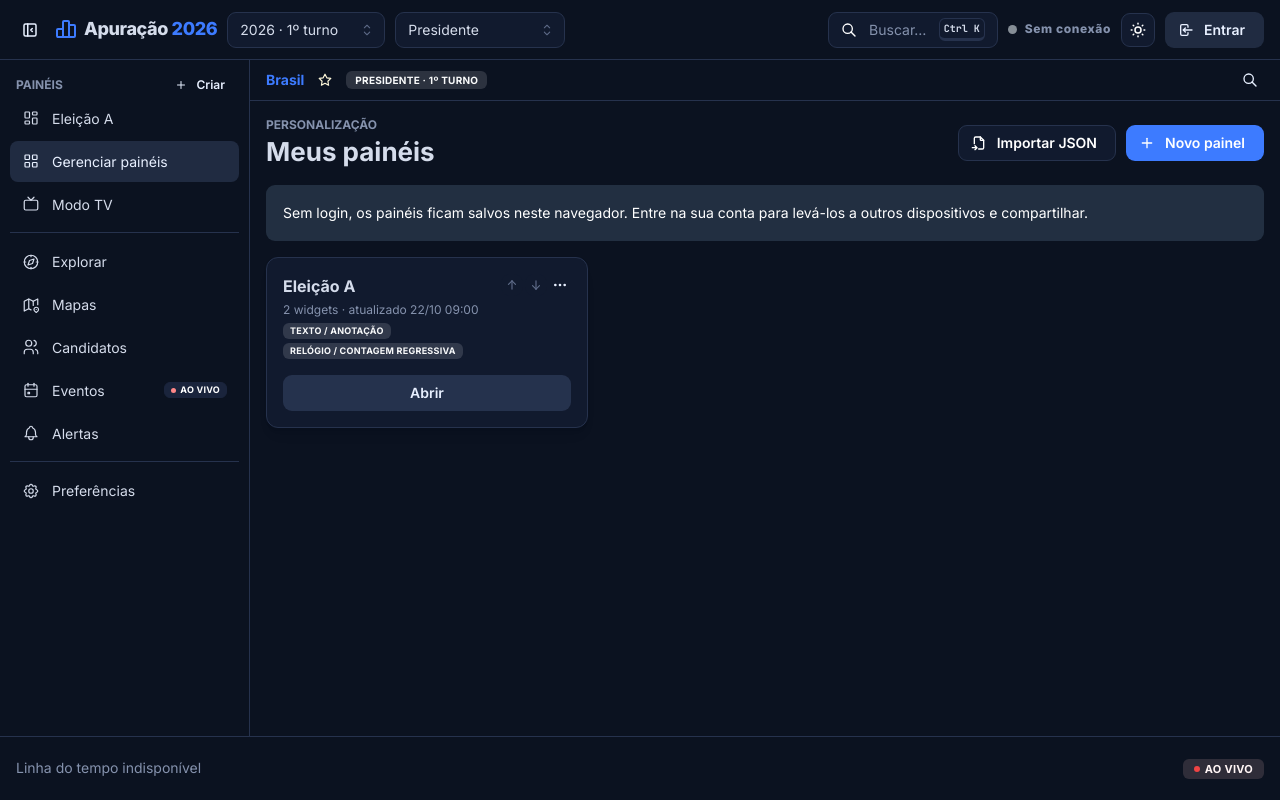
Test: dashboards list › deletes a dashboard after the user confirms
The image size is (1280, 800).
What coordinates should you click on to do the following:
click the button named "Opções"
I would click on:
 (560, 285)
Its box is x1=549 y1=274 x2=571 y2=296.
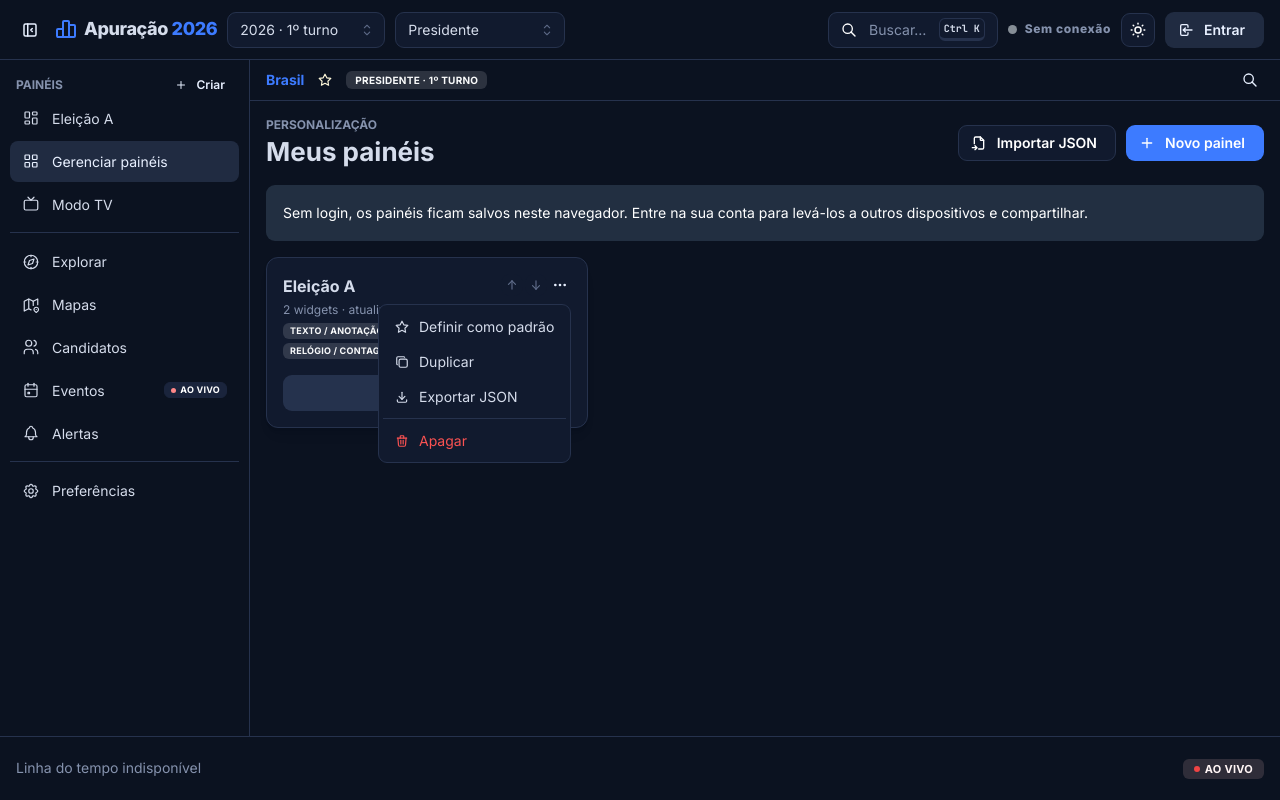
What coordinates should you click on to do the following:
click the menu item "Apagar"
I would click on:
 (474, 440)
Its box is x1=383 y1=423 x2=566 y2=458.
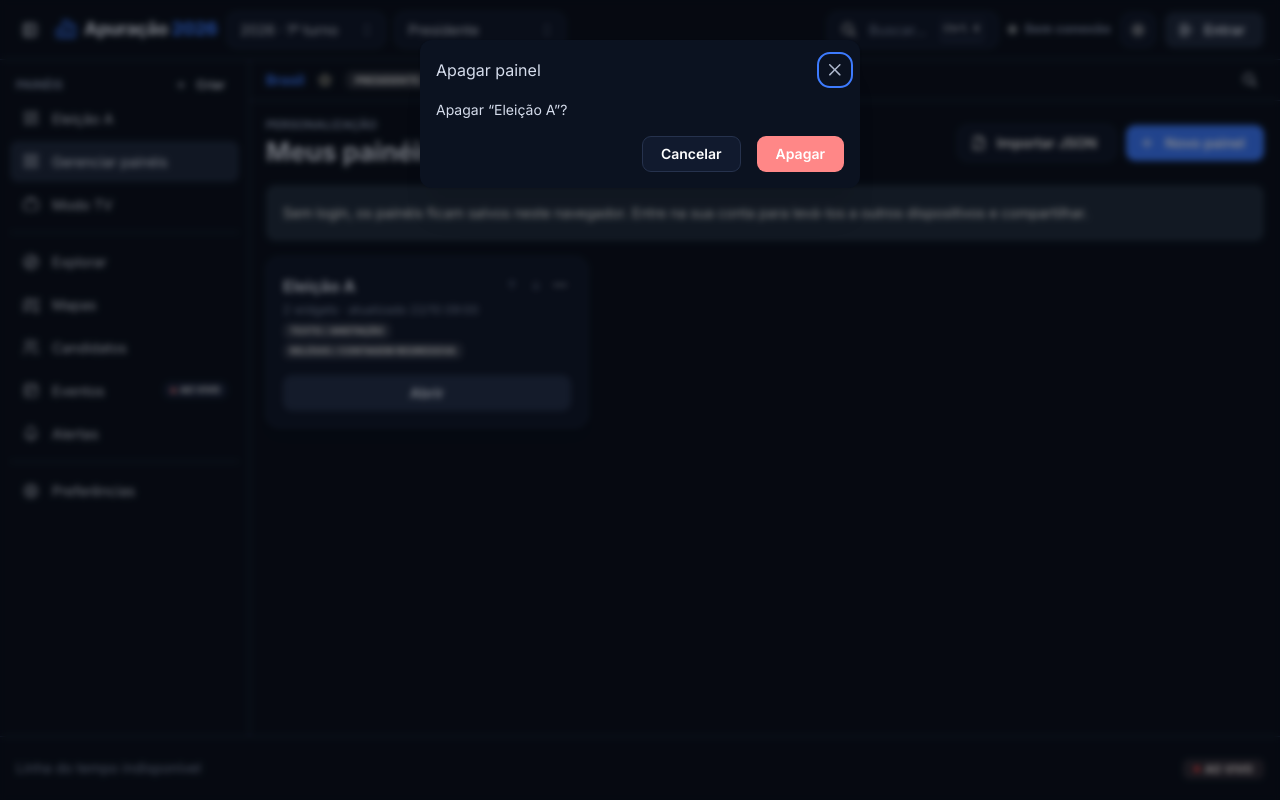
What coordinates should you click on to do the following:
click the button "Apagar"
I would click on:
 (800, 154)
Its box is x1=756 y1=136 x2=844 y2=172.
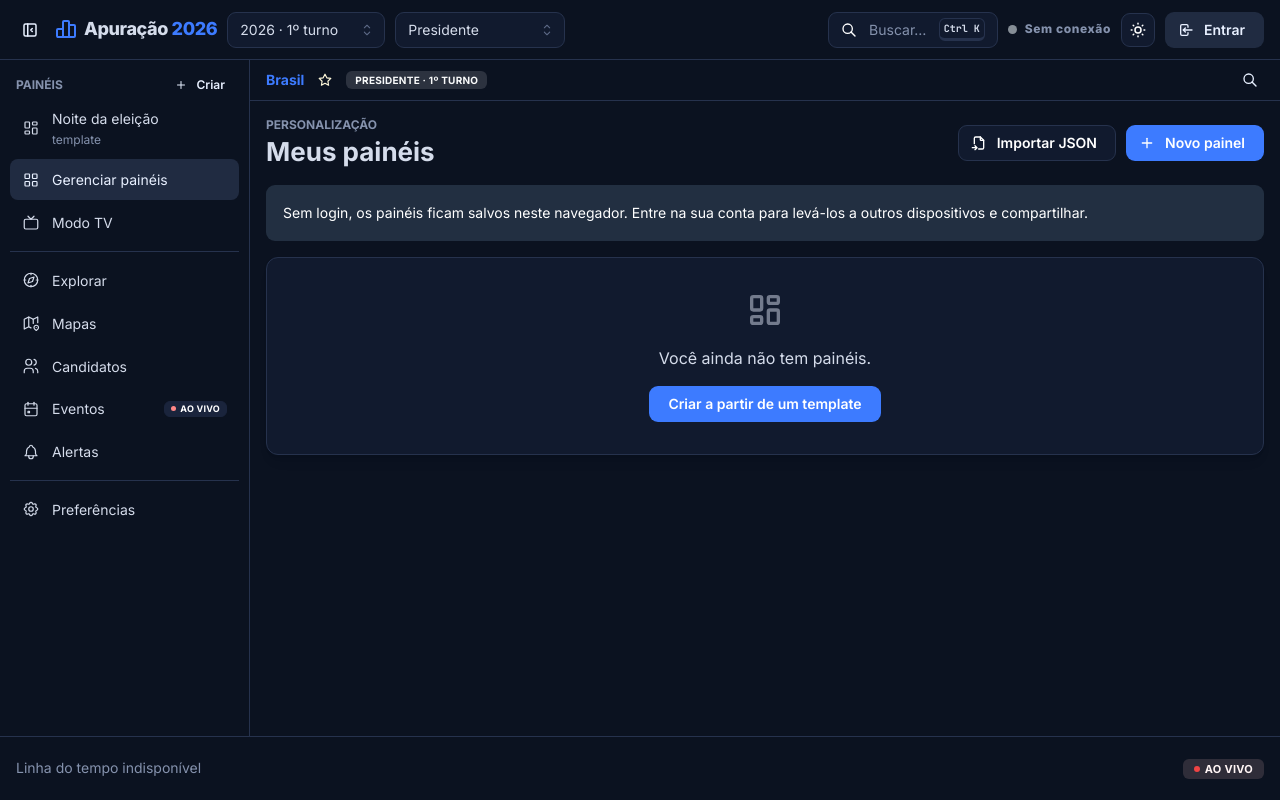
Now the text "Você ainda não tem painéis." is shown, box x1=659 y1=346 x2=871 y2=370
